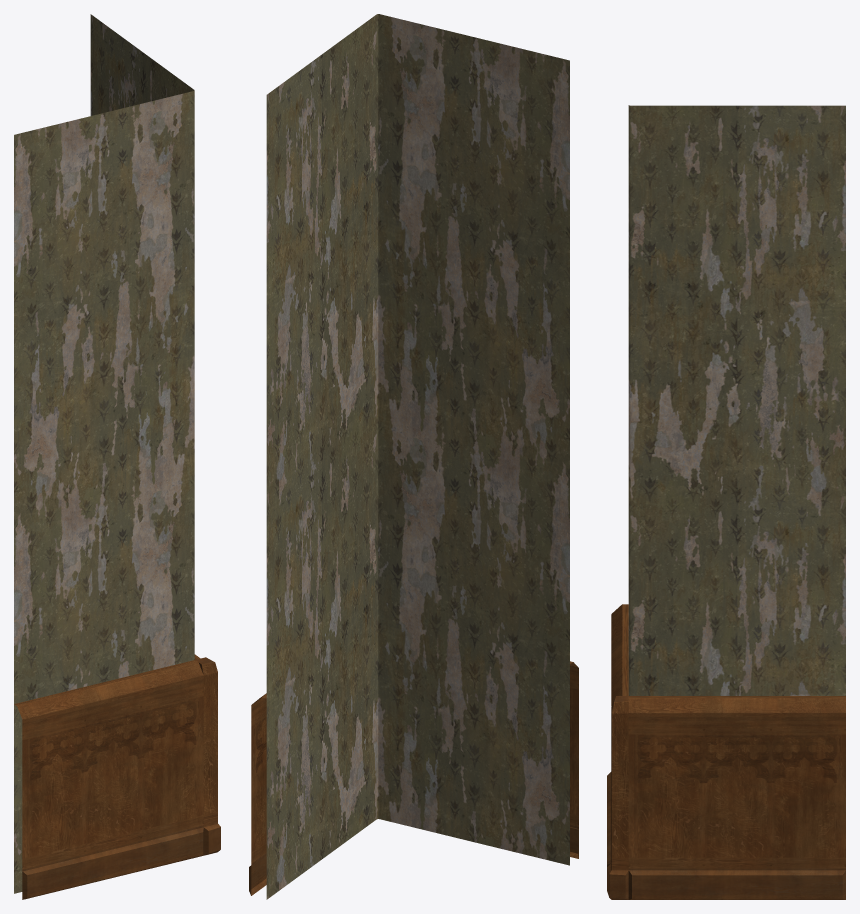
The model's file is SM_Wall_Paper_03.fbx.
3 renders of one model, left to right at view 1: azimuth 30°, elevation 25°; view 2: azimuth 150°, elevation 25°; view 3: azimuth 270°, elevation 25°, orthographic. The views are drawn at different scales.
Visible parts, largest first — view 1: SM_Wall_Paper_03; view 2: SM_Wall_Paper_03; view 3: SM_Wall_Paper_03.
Part boxes in pixels (x1=…): SM_Wall_Paper_03: x1=14, y1=14, x2=220, y2=899; SM_Wall_Paper_03: x1=249, y1=14, x2=578, y2=899; SM_Wall_Paper_03: x1=607, y1=105, x2=845, y2=899.
Bounding box in the file's own units: 110 × 400 × 110.
